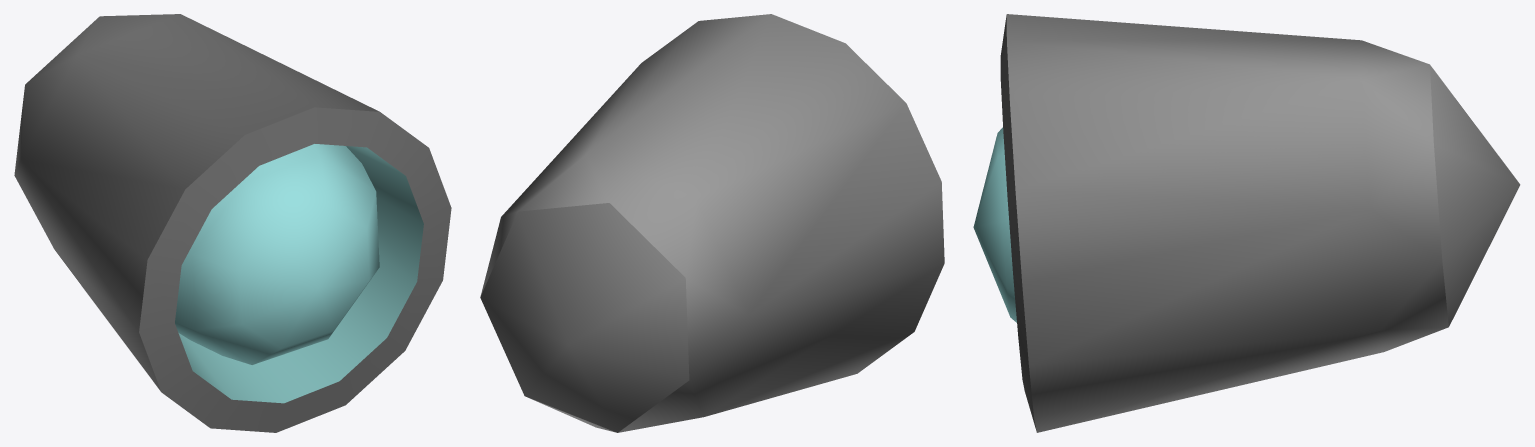
File: DJStageLightsTeal.glb
The picture shows the model from 3 angles, left to right: view 1: azimuth 30°, elevation 25°; view 2: azimuth 150°, elevation 25°; view 3: azimuth 270°, elevation 25°; orthographic projection. The views are drawn at different scales.
Parts seen in each view (by area): view 1: DJStageLightsTeal; view 2: DJStageLightsTeal; view 3: DJStageLightsTeal.
Part boxes in pixels (x1,y1,x2,y2): DJStageLightsTeal: [14, 14, 451, 432]; DJStageLightsTeal: [480, 14, 944, 432]; DJStageLightsTeal: [973, 14, 1520, 432].
Bounding box in the file's own units: 0.2405 × 0.2416 × 0.3158.
